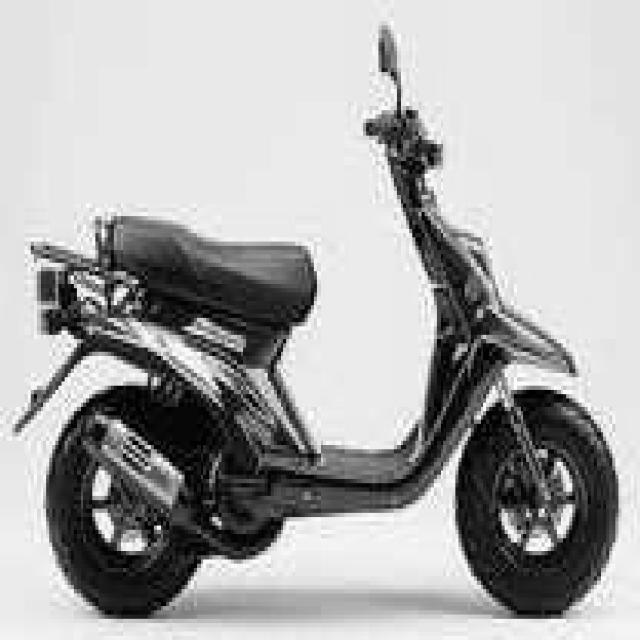Motorcycle: (16, 103, 615, 614)
